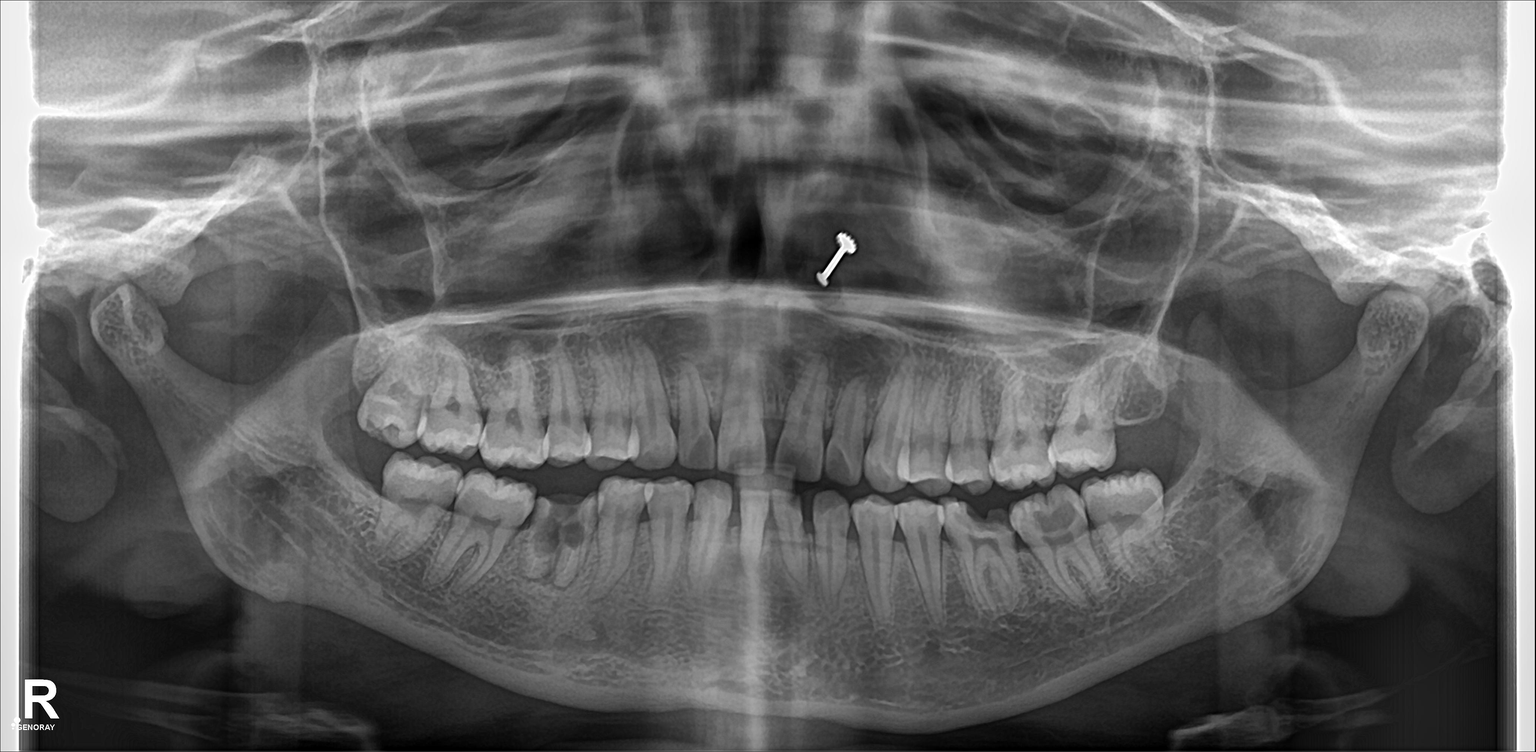Dental Caries: (540, 499, 587, 550), (1039, 506, 1083, 542), (818, 444, 860, 480), (965, 503, 1006, 533)
Missing Tooth: (1110, 367, 1174, 459), (337, 437, 386, 524)
